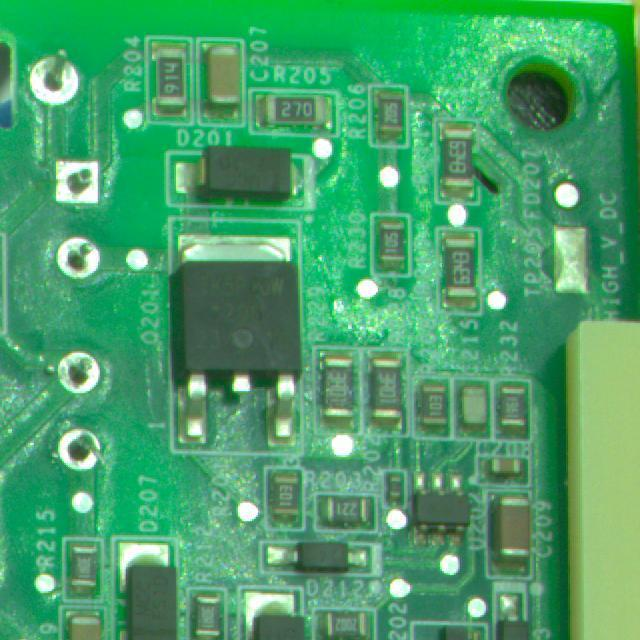Insufficient solder: (20, 48, 89, 114), (52, 426, 110, 486), (49, 230, 105, 289), (50, 159, 113, 210), (53, 344, 101, 396)
